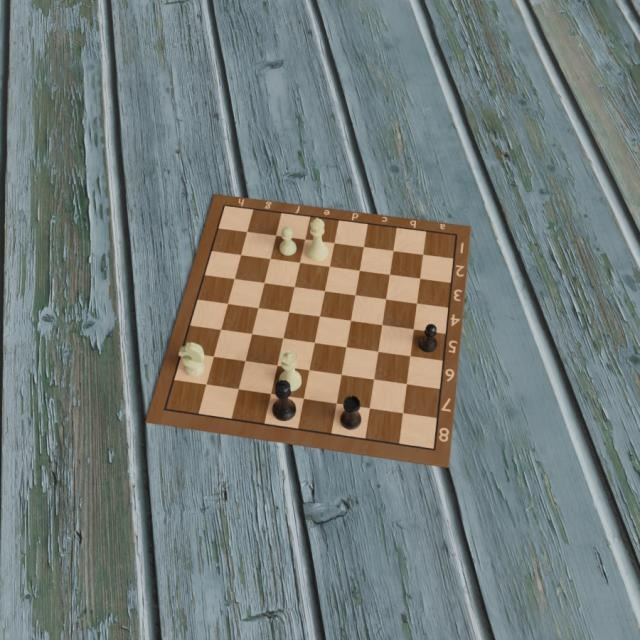black-king: (271, 379, 297, 421)
black-pawn: (417, 322, 438, 354)
black-rook: (340, 393, 363, 430)
white-king: (306, 216, 328, 263)
white-knight: (178, 340, 205, 377)
white-pawn: (277, 226, 299, 258)
white-queen: (277, 349, 302, 393)
